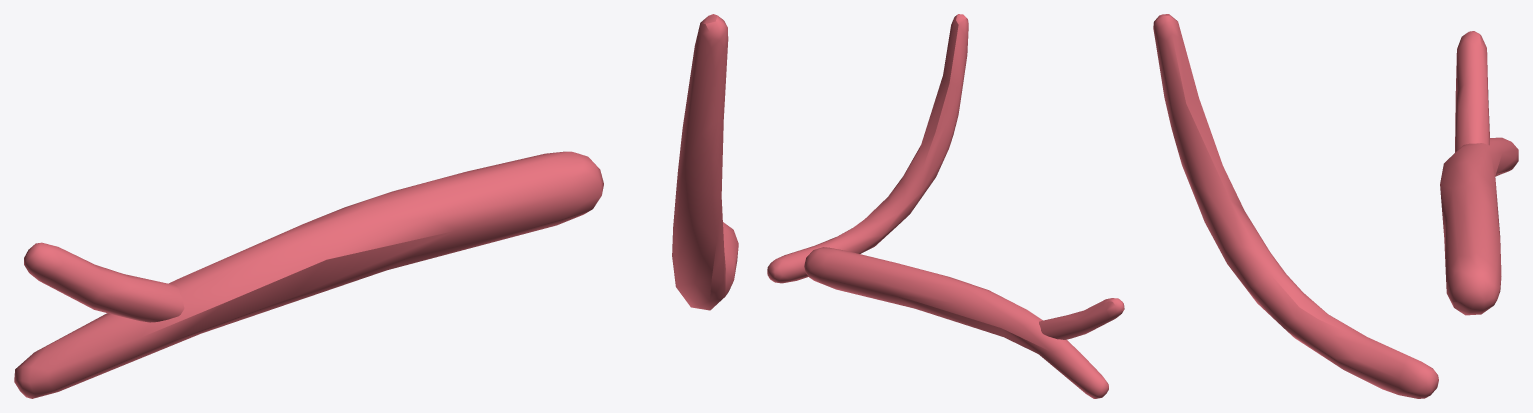
Rendered from fma8662_cx273.glb.
3 views of the same model, side by side, from view 1: azimuth 30°, elevation 25°; view 2: azimuth 150°, elevation 25°; view 3: azimuth 270°, elevation 25° (orthographic). The views are drawn at different scales.
Parts seen in each view (by area): view 1: FMA8662_CX273; view 2: FMA8662_CX273; view 3: FMA8662_CX273.
Boxes of the visible parts, left/top/right/bottom form: FMA8662_CX273: left=14, top=14, right=738, bottom=398; FMA8662_CX273: left=767, top=14, right=1124, bottom=398; FMA8662_CX273: left=1153, top=14, right=1518, bottom=398.
Bounding box in the file's own units: 0.0448 × 0.027 × 0.0267.
